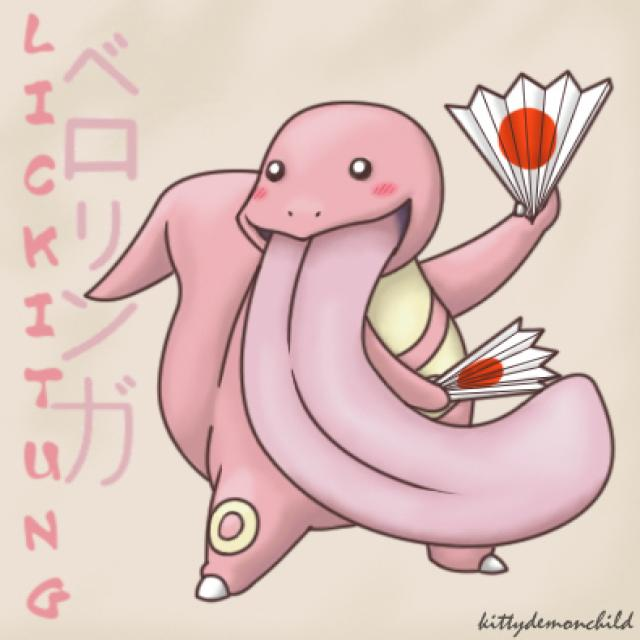Lickitung: (60, 100, 640, 602)
